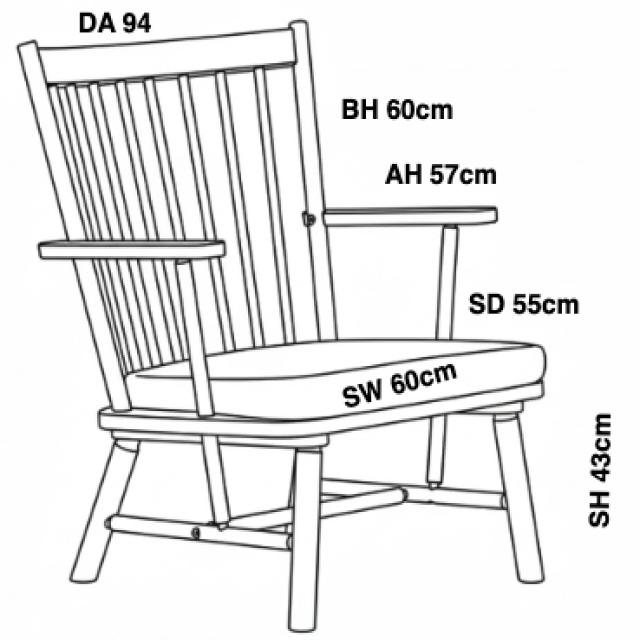AH_Label: (383, 161, 499, 186)
Armrest: (36, 239, 226, 419), (326, 204, 498, 341)
BH_Label: (341, 98, 454, 122)
Backrest: (13, 18, 338, 408)
Base: (99, 380, 545, 449)
DA_Label: (76, 11, 153, 36)
Leg_Structure: (69, 399, 547, 631)
SD_Label: (470, 291, 580, 317)
SH_Label: (588, 410, 615, 532)
SW_Label: (342, 360, 463, 409)
Seat: (125, 339, 549, 423)
